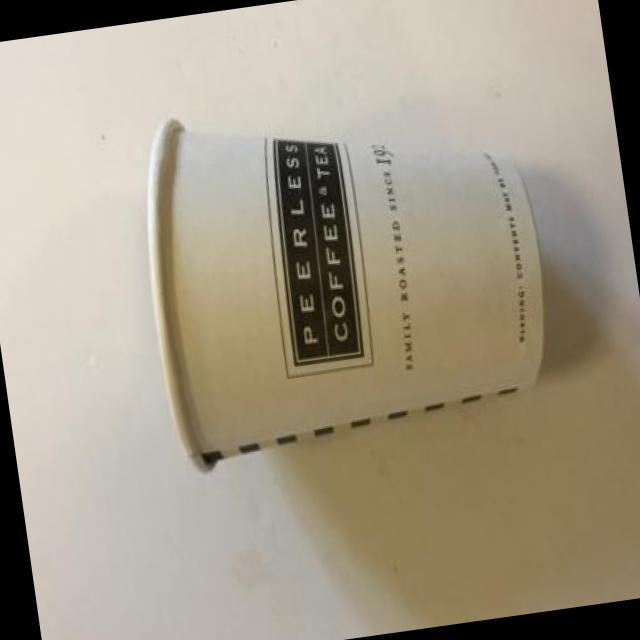vo_hop_sua: (147, 120, 548, 474)
